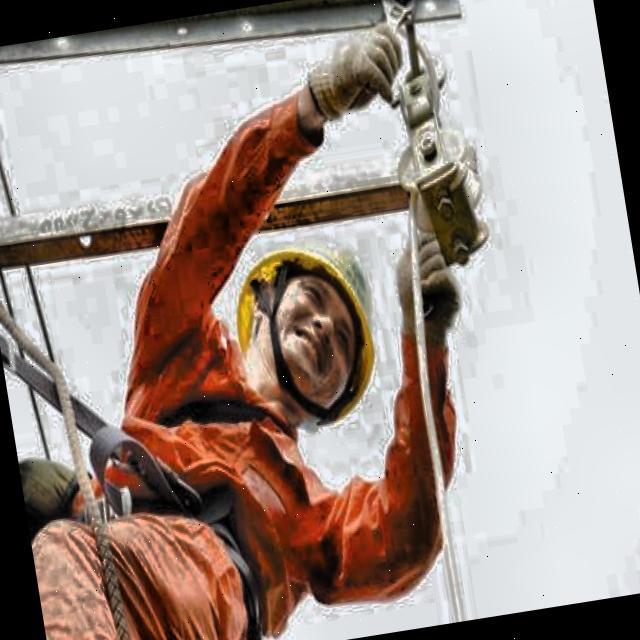helmet: (202, 198, 400, 438)
